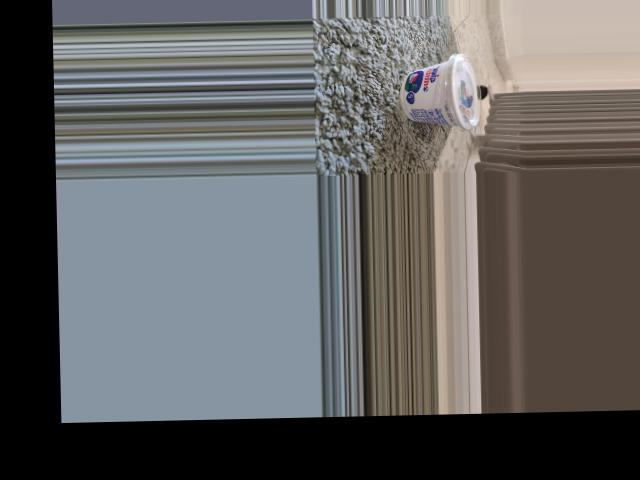cotage: (397, 57, 482, 126)
